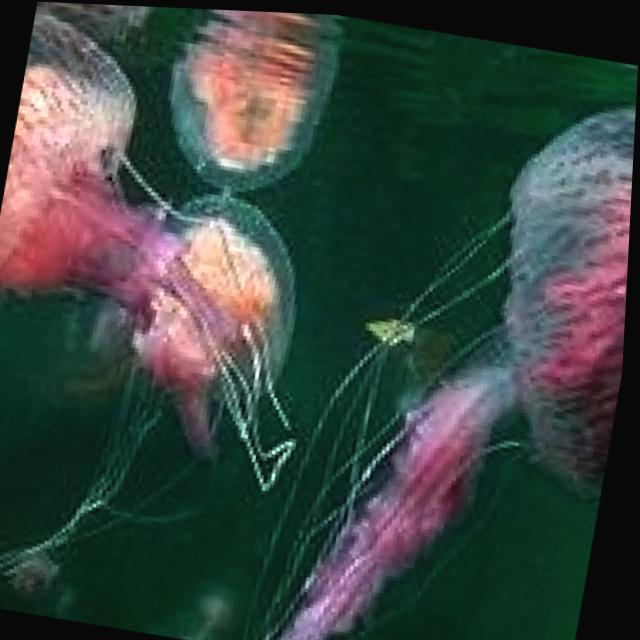Jellyfish: (0, 40, 343, 460)
